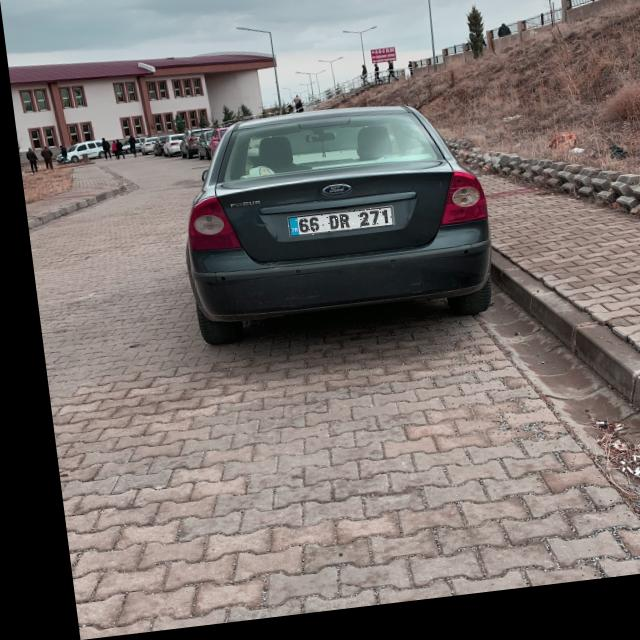license_plate: (281, 214, 388, 244)
